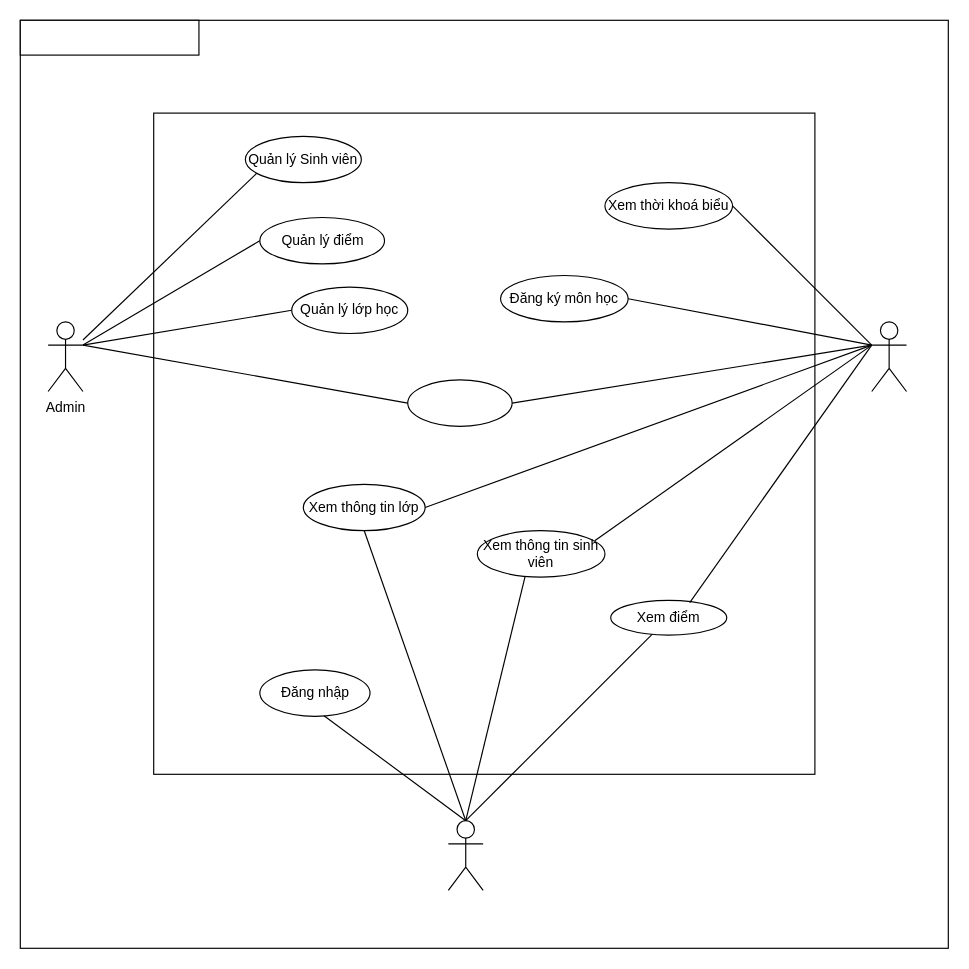
This 969x969 diagram has some shape labels left out. Each missing label, with the centre of its shape:
Guest: the point at 465,855
Use Case tổng quan: the point at 109,37
User: the point at 889,356
Đăng xuất: the point at 459,402
